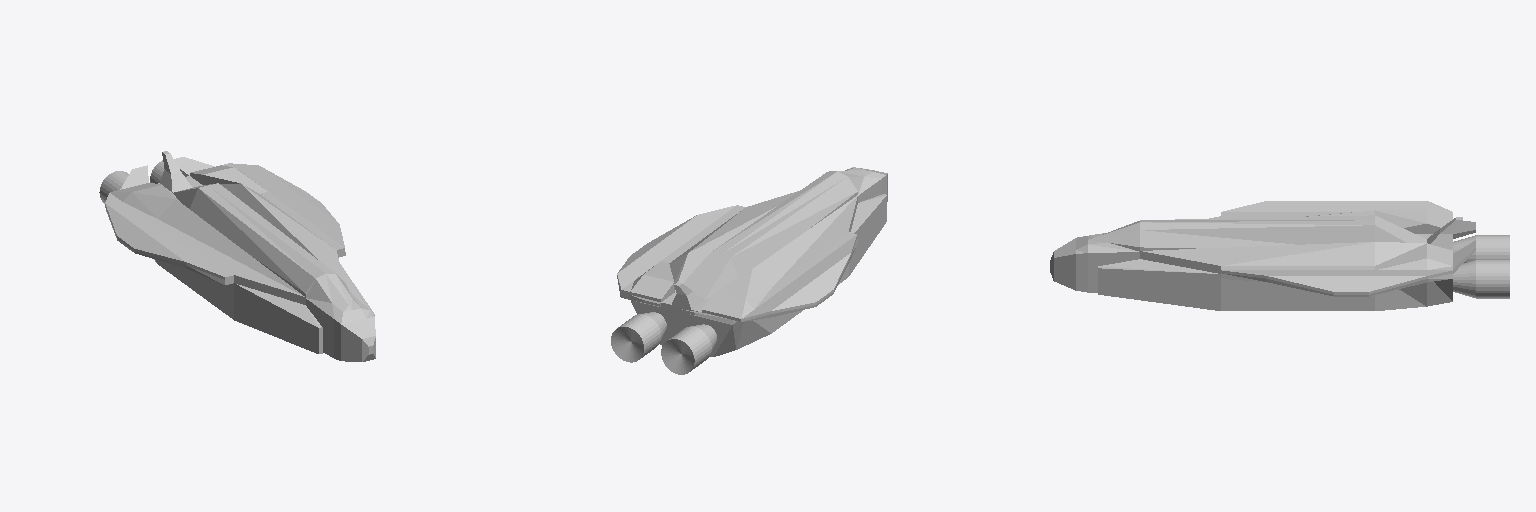
The model's file is cruiser.obj.
3 renders of one model, left to right at view 1: azimuth 30°, elevation 25°; view 2: azimuth 150°, elevation 25°; view 3: azimuth 270°, elevation 25°, orthographic.
Visible parts, largest first — view 1: Cube, Cylinder; view 2: Cube, Cylinder; view 3: Cube, Cylinder.
Part boxes in pixels (x1,y1,x2,y2): Cube: (105,151,375,361); Cylinder: (99,160,164,203); Cube: (617,167,887,356); Cylinder: (611,312,716,374); Cube: (1050,201,1475,310); Cylinder: (1453,235,1509,298).
Size of the model in its own units: 9.25 by 3.56 by 19.68.